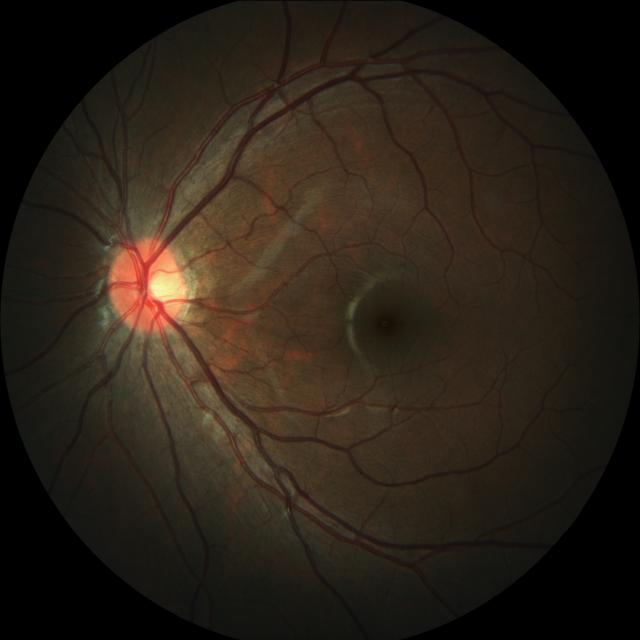OC: (140, 271, 173, 302)
OD: (106, 239, 186, 332)
